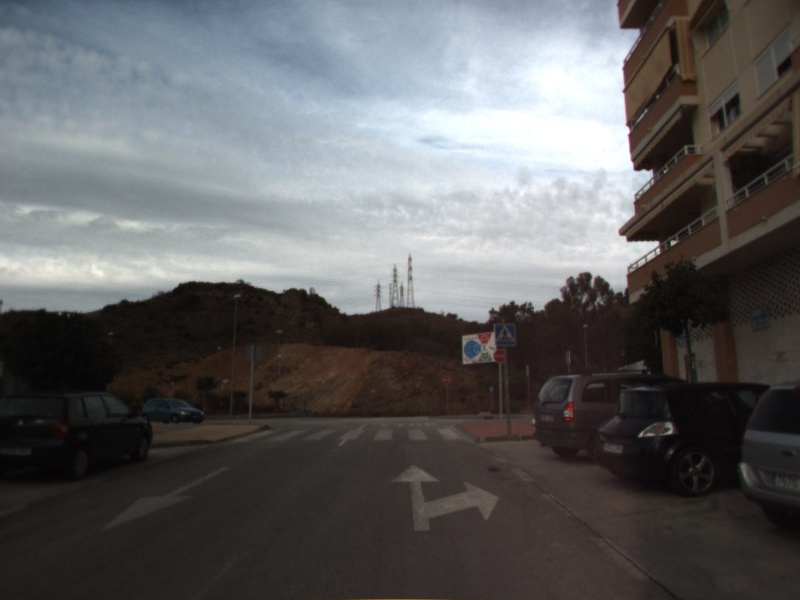STRAIGHT_RIGHT: (389, 462, 501, 533)
